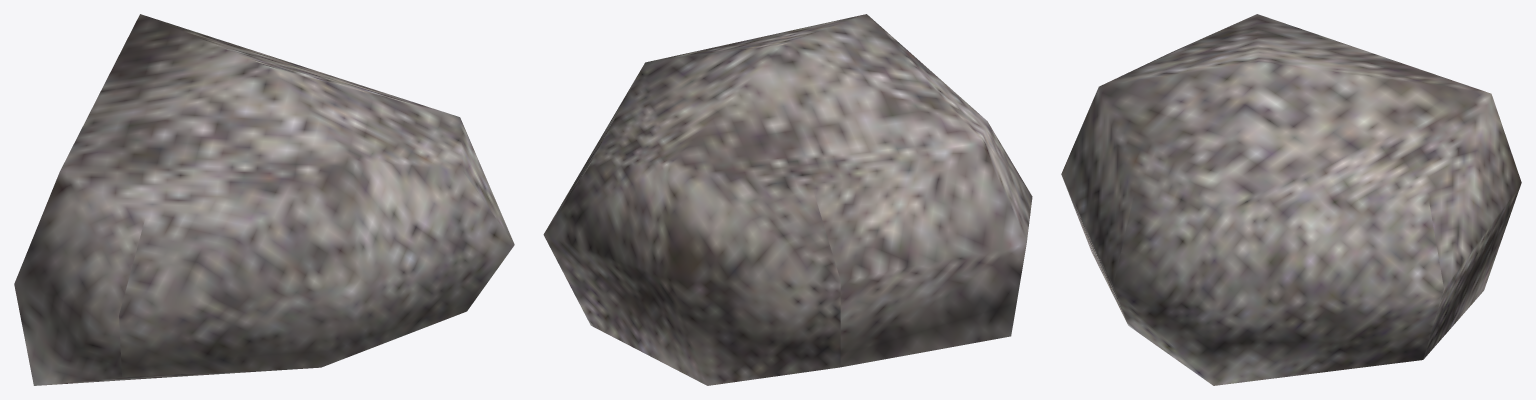
File: stein2.fbx
3 renders of one model, left to right at view 1: azimuth 30°, elevation 25°; view 2: azimuth 150°, elevation 25°; view 3: azimuth 270°, elevation 25°, orthographic. The views are drawn at different scales.
Parts seen in each view (by area): view 1: stein_b; view 2: stein_b; view 3: stein_b.
Boxes of the visible parts, x1,y1,x2,y2 form: stein_b: [14, 14, 514, 385]; stein_b: [543, 14, 1032, 385]; stein_b: [1061, 14, 1521, 385].
Size of the model in its own units: 31.06 by 17.3 by 29.09.
Materials: 1 (1 with a texture image).
